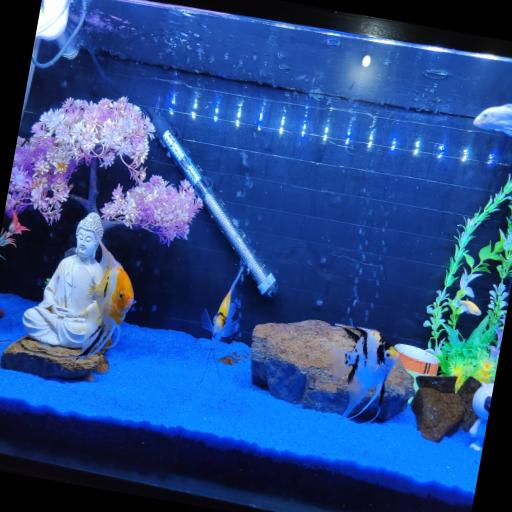Fish: (328, 324, 398, 420), (77, 240, 133, 356), (201, 266, 242, 362), (473, 104, 511, 136), (459, 300, 480, 315), (0, 340, 11, 343)
